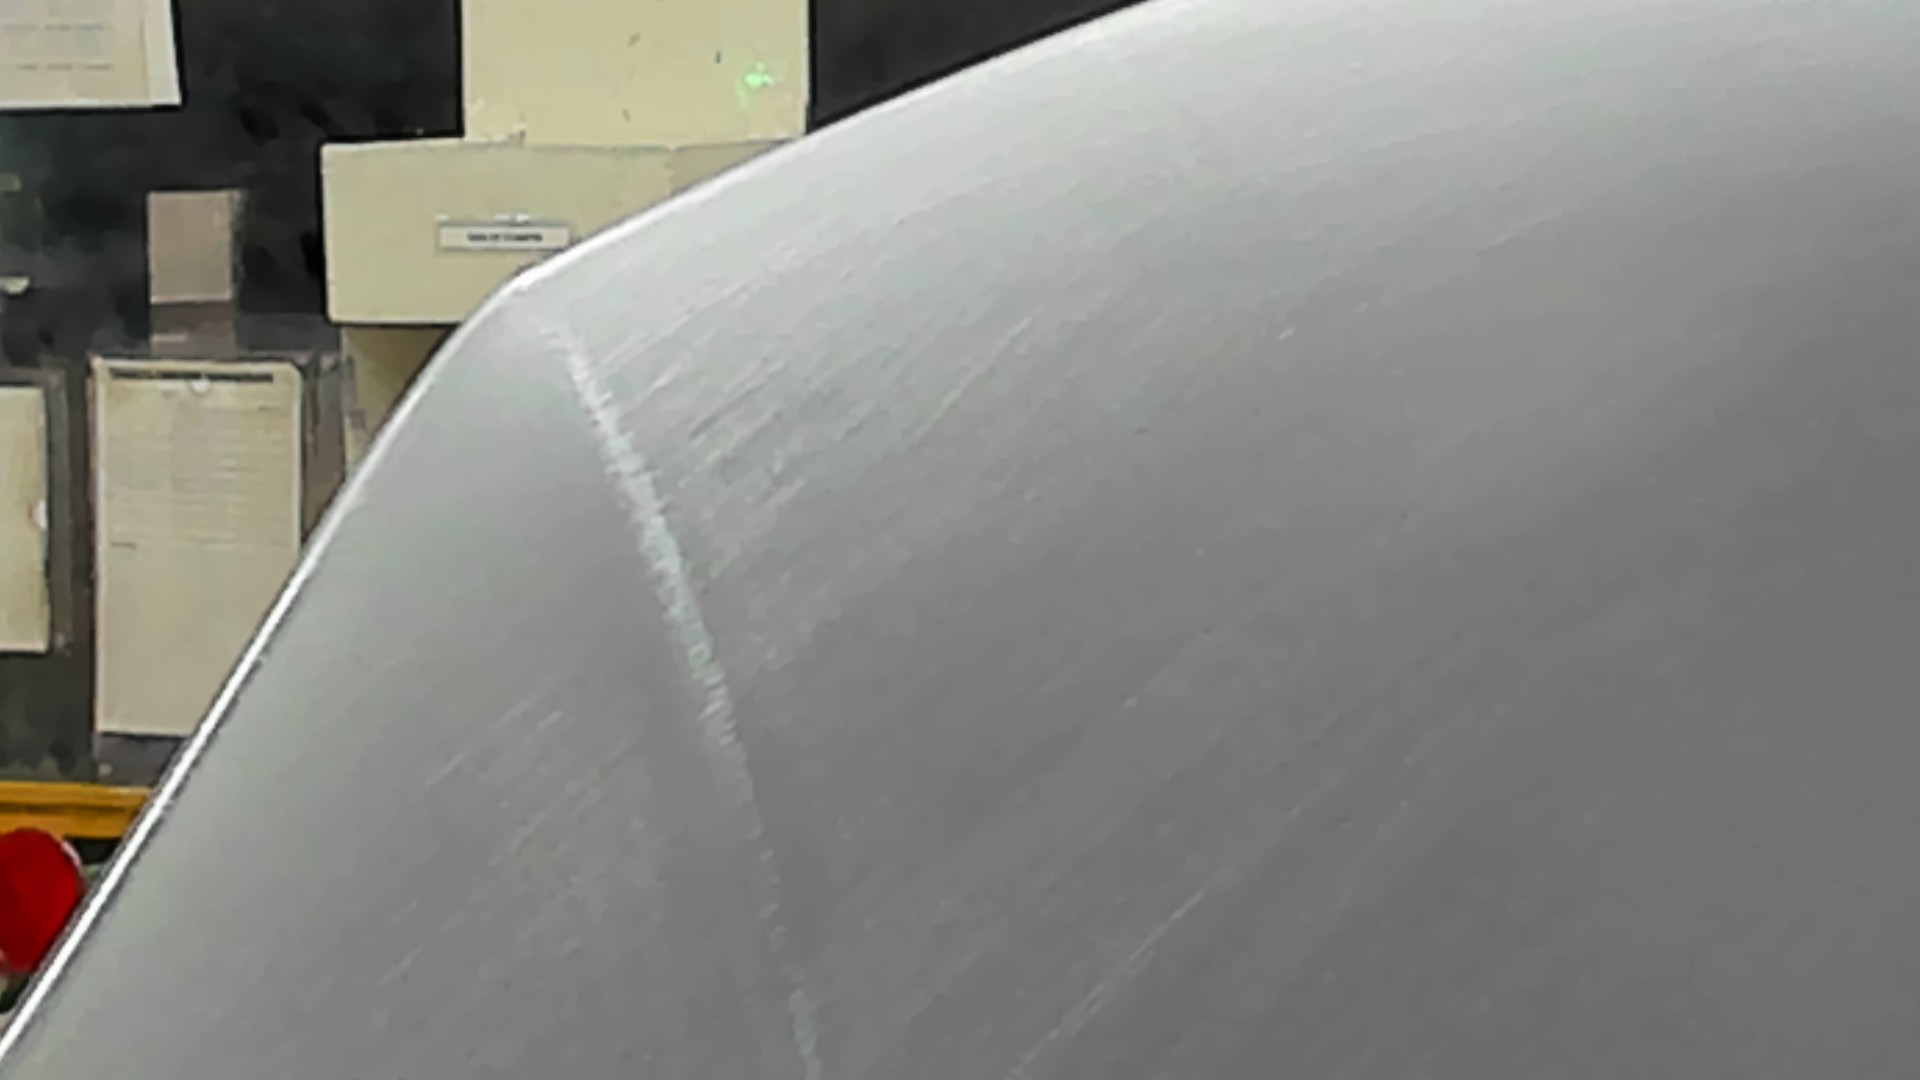capo: (771, 173, 1920, 1080)
